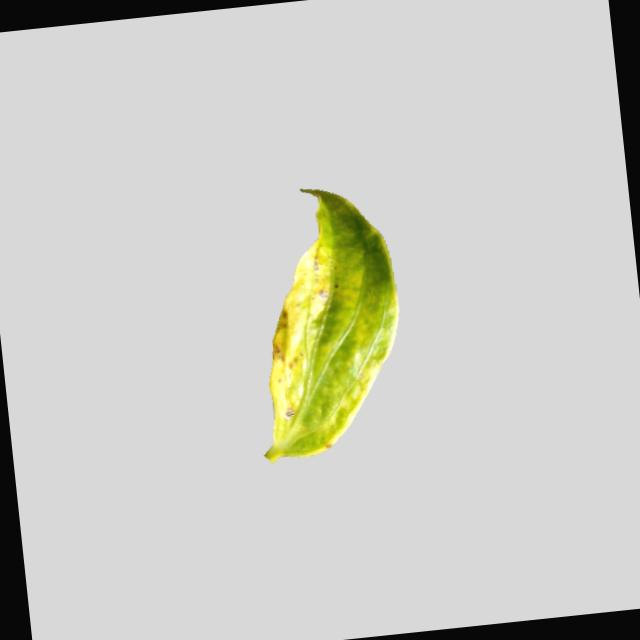yellow-mottle-virus: (233, 179, 418, 466)
